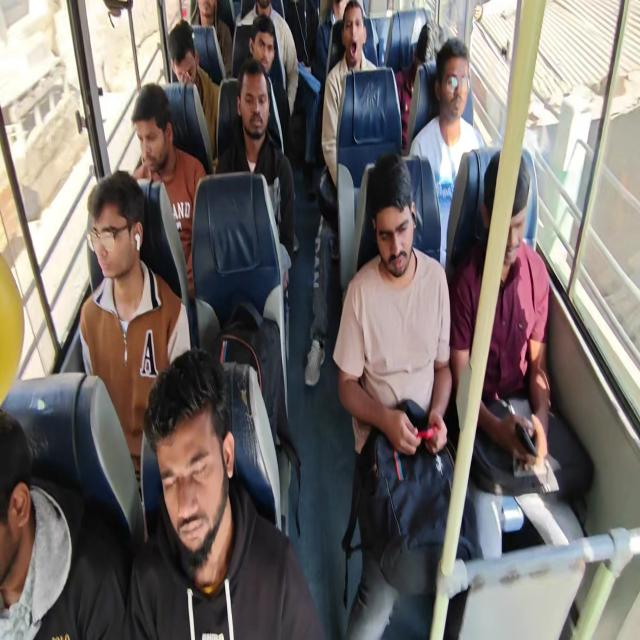person: (332, 152, 478, 638), (448, 149, 591, 633), (124, 346, 326, 639), (78, 170, 192, 498), (0, 406, 130, 639), (304, 1, 379, 387), (215, 57, 296, 290), (408, 36, 481, 268), (130, 82, 207, 300), (321, 1, 378, 188), (236, 0, 299, 118), (167, 19, 220, 159), (283, 0, 320, 199), (394, 19, 444, 150), (190, 0, 232, 80), (314, 0, 349, 81), (284, 0, 318, 72)
